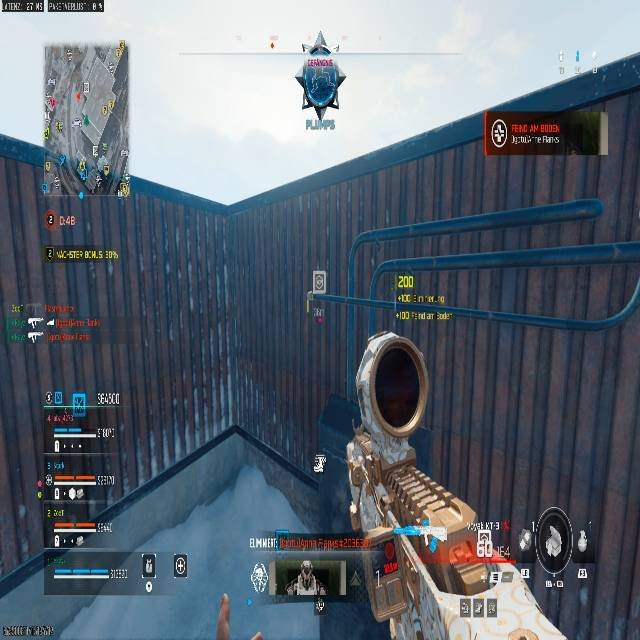head: (306, 34, 329, 55)
player: (514, 508, 600, 635), (294, 30, 347, 130)
